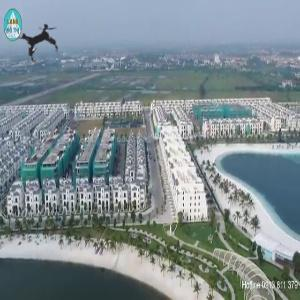drone: (4, 3, 80, 79)
